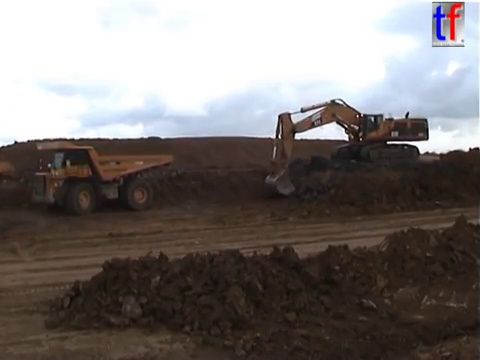excavator: (262, 96, 431, 197)
truck: (29, 138, 174, 216), (1, 158, 18, 182)
